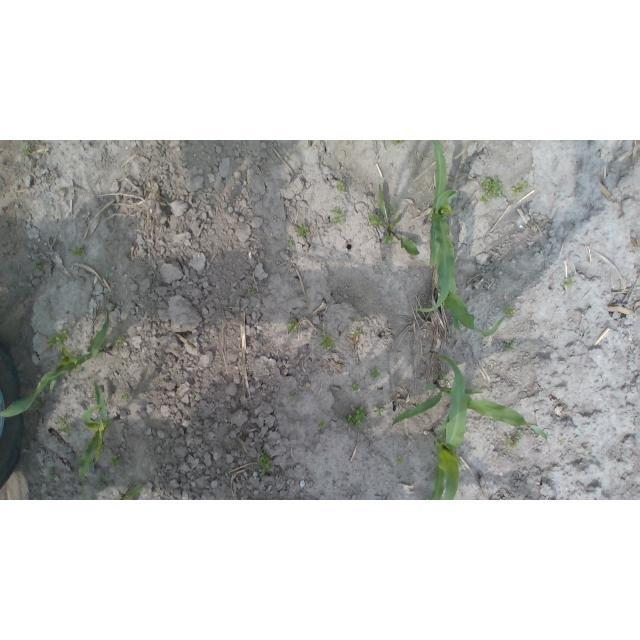Maize: (414, 141, 506, 342), (1, 302, 114, 419), (387, 380, 554, 452), (432, 355, 473, 500), (78, 377, 122, 481)
Weeds: (367, 185, 420, 256), (505, 428, 532, 451), (482, 176, 503, 201), (348, 407, 369, 427), (47, 329, 68, 347), (511, 180, 529, 195), (69, 244, 87, 257), (331, 208, 345, 224), (58, 420, 72, 436), (258, 454, 271, 471), (564, 274, 576, 288), (287, 318, 297, 334), (320, 336, 332, 348), (297, 224, 308, 237), (115, 334, 123, 351), (19, 145, 31, 156), (110, 454, 120, 467), (120, 391, 129, 405), (371, 368, 380, 380), (375, 407, 390, 414), (336, 182, 345, 193), (506, 341, 515, 352), (51, 471, 60, 482), (32, 259, 42, 268), (351, 383, 361, 391), (506, 308, 513, 319), (286, 235, 293, 246), (397, 457, 406, 465), (354, 318, 365, 324), (319, 421, 326, 429), (100, 477, 108, 483), (356, 329, 361, 335)
